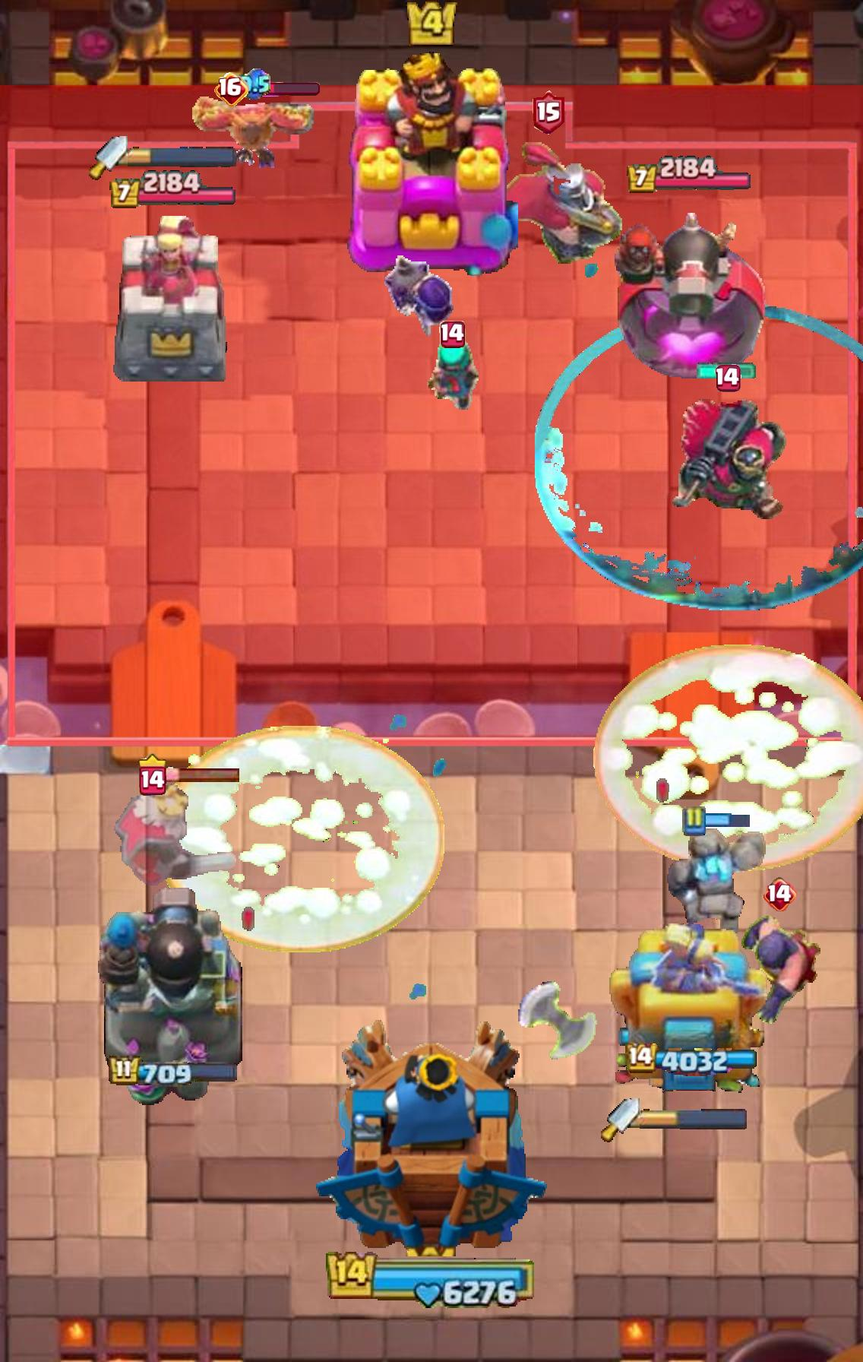elixir: (237, 69, 270, 101)
